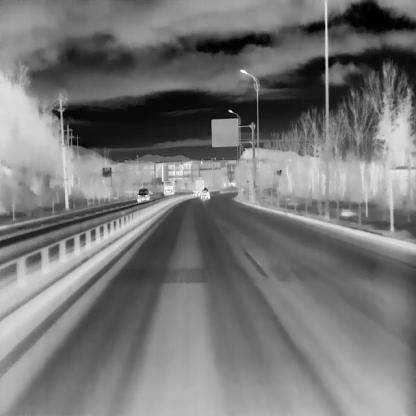car: (136, 188, 150, 202), (199, 188, 209, 199)
truck: (163, 180, 175, 196), (195, 180, 203, 194)
